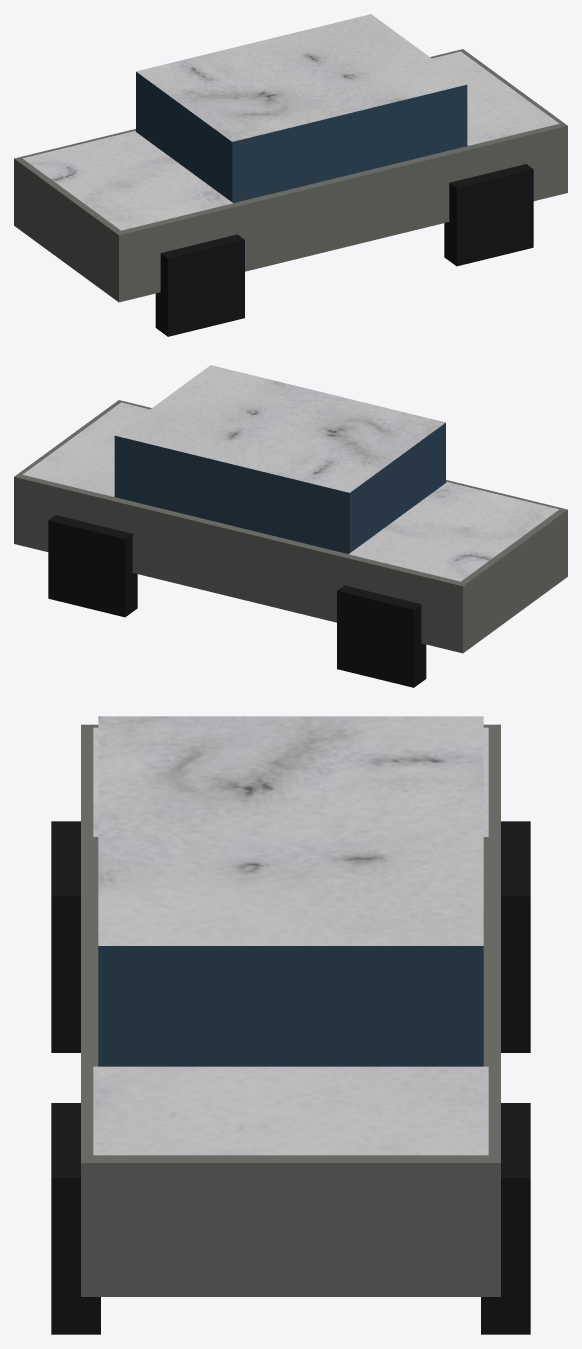
File: c_car3.glb
3 views of the same model, one above another, from view 1: azimuth 30°, elevation 25°; view 2: azimuth 150°, elevation 25°; view 3: azimuth 270°, elevation 25° (orthographic). The views are drawn at different scales.
Parts seen in each view (by area): view 1: Car; view 2: Car; view 3: Car.
Boxes of the visible parts, bbox=[...] form: Car: bbox=[14, 14, 567, 336]; Car: bbox=[14, 365, 567, 687]; Car: bbox=[51, 716, 530, 1334].
Size of the model in its own units: 4.2 by 1.5 by 1.94.
Materials: 2 (2 with a texture image).
